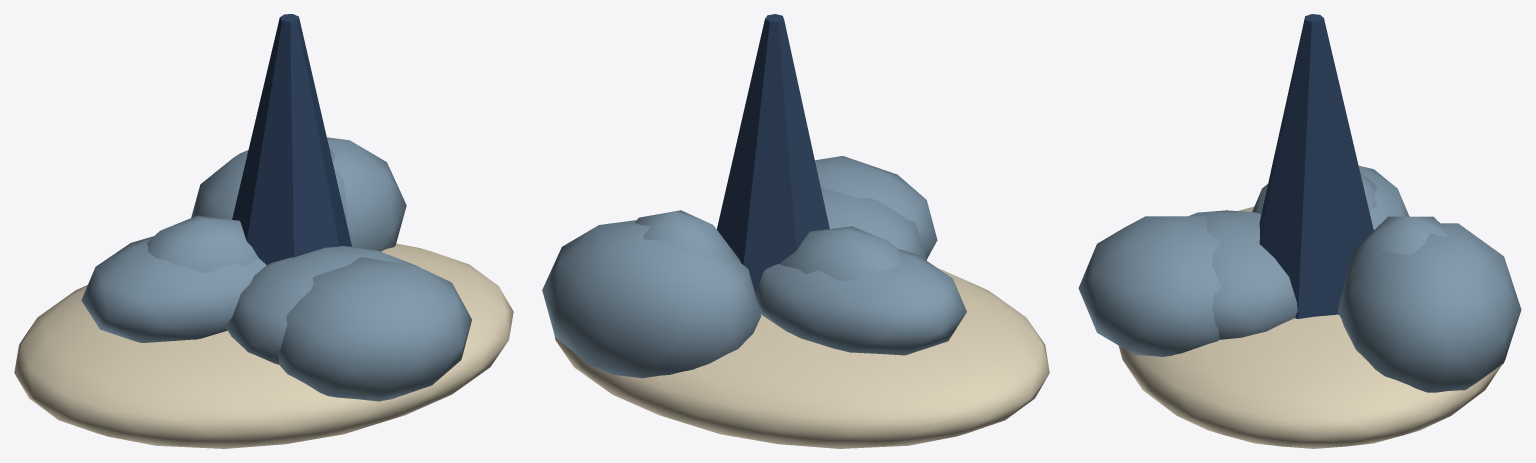
The model's file is reef-06.glb.
The picture shows the model from 3 angles, left to right: view 1: azimuth 30°, elevation 25°; view 2: azimuth 150°, elevation 25°; view 3: azimuth 270°, elevation 25°; orthographic projection.
Visible parts, largest first — view 1: Sculpted reef base, Reef rock, Sea needle, Reef rock.005, Reef rock.004, Reef rock.003, Reef rock.002; view 2: Sculpted reef base, Reef rock.004, Sea needle, Reef rock.005, Reef rock.002, Reef rock, Reef rock.003, Reef rock.001; view 3: Sculpted reef base, Reef rock.004, Sea needle, Reef rock, Reef rock.003, Reef rock.001, Reef rock.005.
Boxes of the visible parts, x1,y1,x2,y2 form: Sculpted reef base: [14, 243, 513, 448]; Reef rock: [278, 257, 471, 401]; Sea needle: [232, 14, 351, 264]; Reef rock.005: [81, 236, 266, 342]; Reef rock.004: [191, 137, 406, 251]; Reef rock.003: [226, 246, 417, 364]; Reef rock.002: [147, 215, 258, 273]; Sculpted reef base: [554, 269, 1049, 448]; Reef rock.004: [542, 220, 761, 378]; Sea needle: [717, 14, 829, 294]; Reef rock.005: [755, 248, 966, 355]; Reef rock.002: [780, 226, 902, 280]; Reef rock: [815, 156, 937, 259]; Reef rock.003: [821, 188, 926, 260]; Reef rock.001: [635, 210, 740, 262]; Sculpted reef base: [1118, 206, 1506, 448]; Reef rock.004: [1338, 223, 1521, 392]; Sea needle: [1259, 14, 1373, 318]; Reef rock: [1078, 216, 1220, 356]; Reef rock.003: [1188, 210, 1297, 339]; Reef rock.001: [1338, 216, 1448, 317]; Reef rock.005: [1252, 165, 1409, 229].
Bounding box in the file's own units: 2.7 × 2.09 × 2.24.
